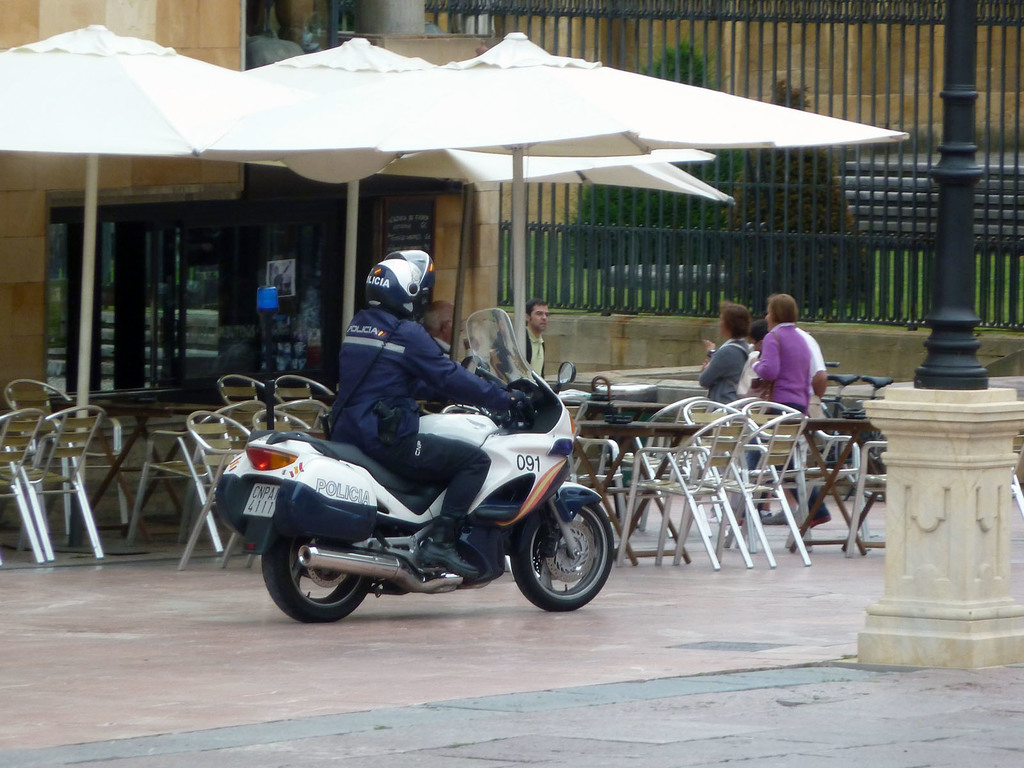Motorcycle: (213, 350, 620, 631)
